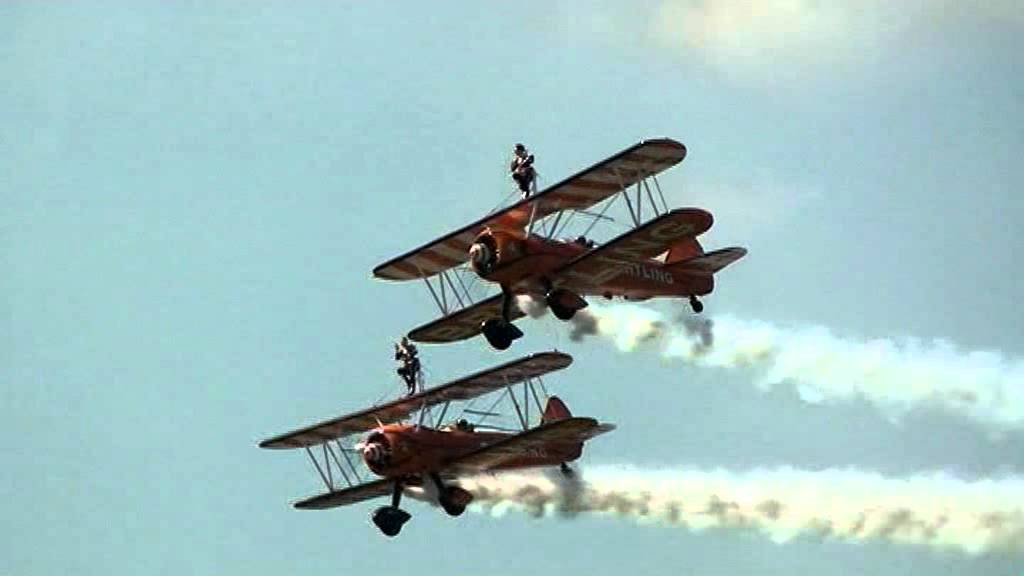Aeronef_de_loisir: (353, 133, 757, 353), (252, 340, 620, 543)
